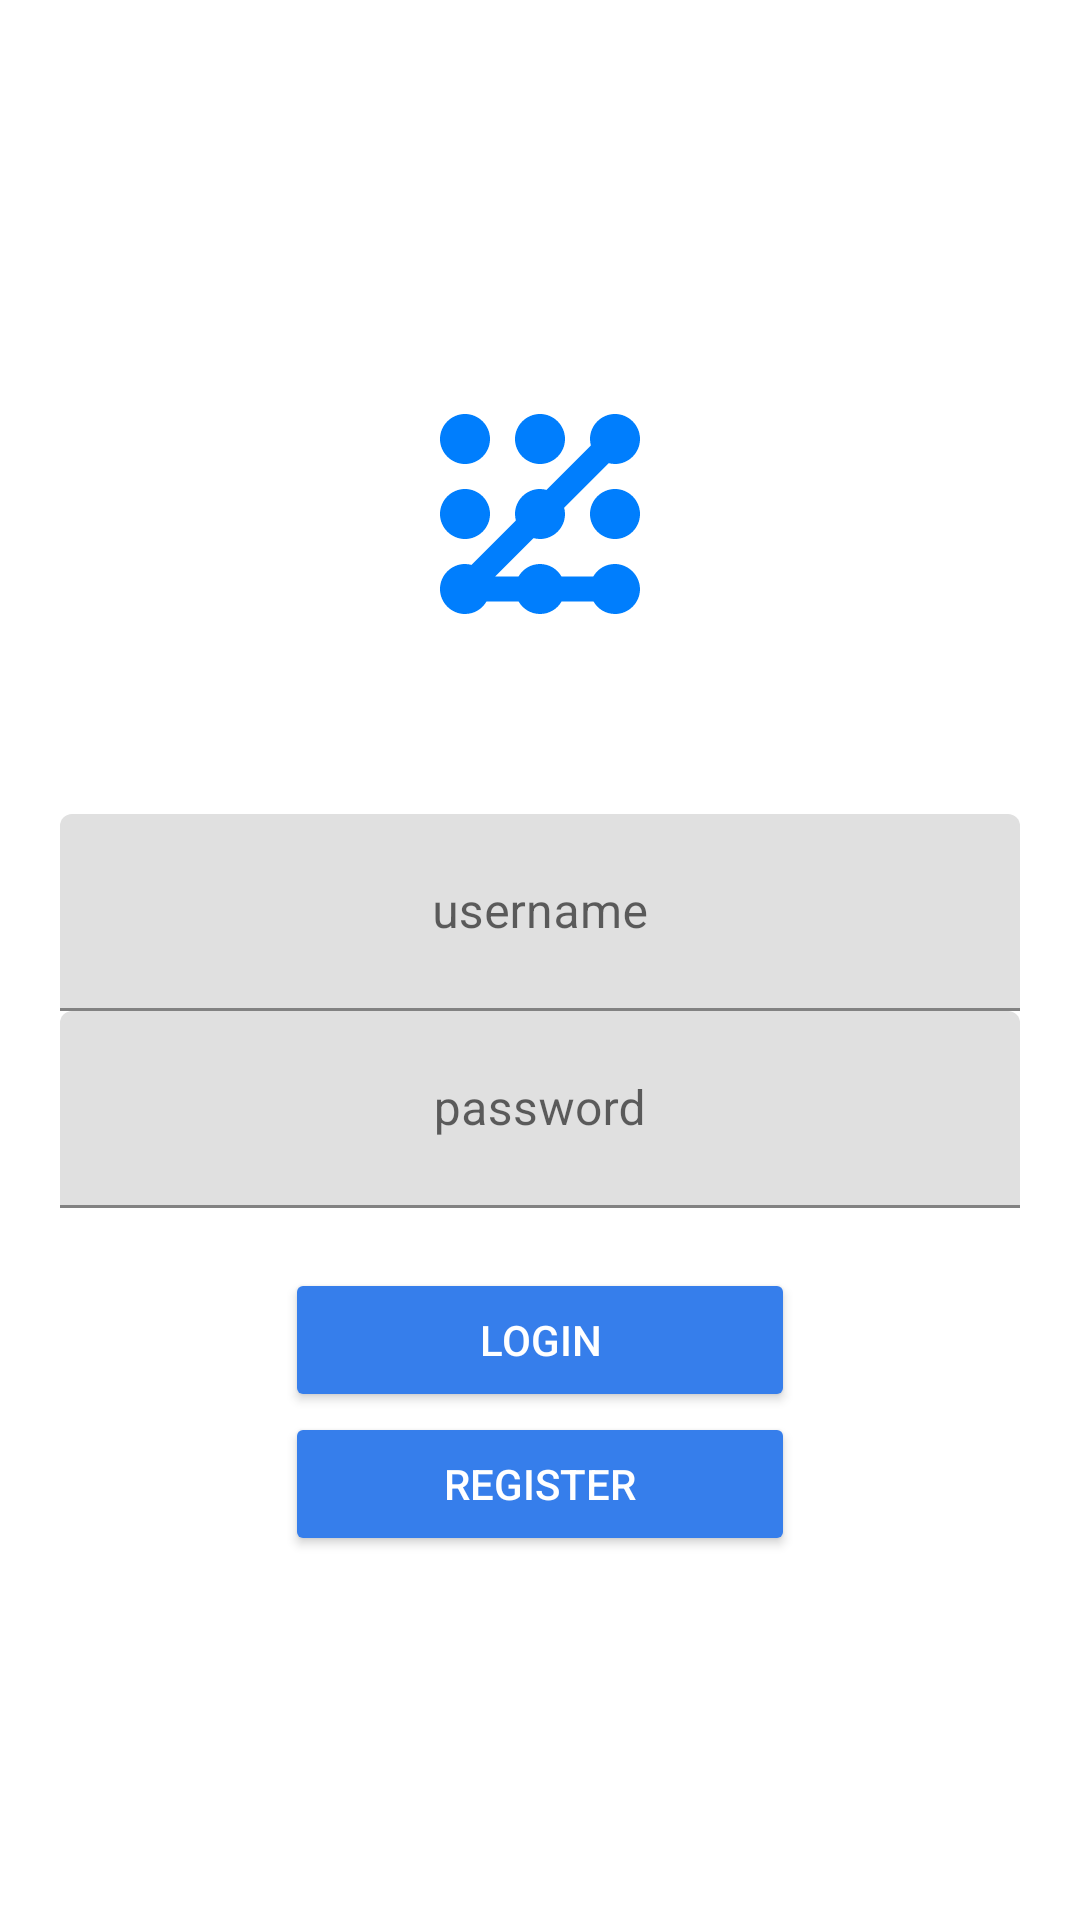

Icons on this 1080*1920 Android screen, each with its box as box(x1, y1, x2, y2):
pattern: box(440, 414, 640, 614)
